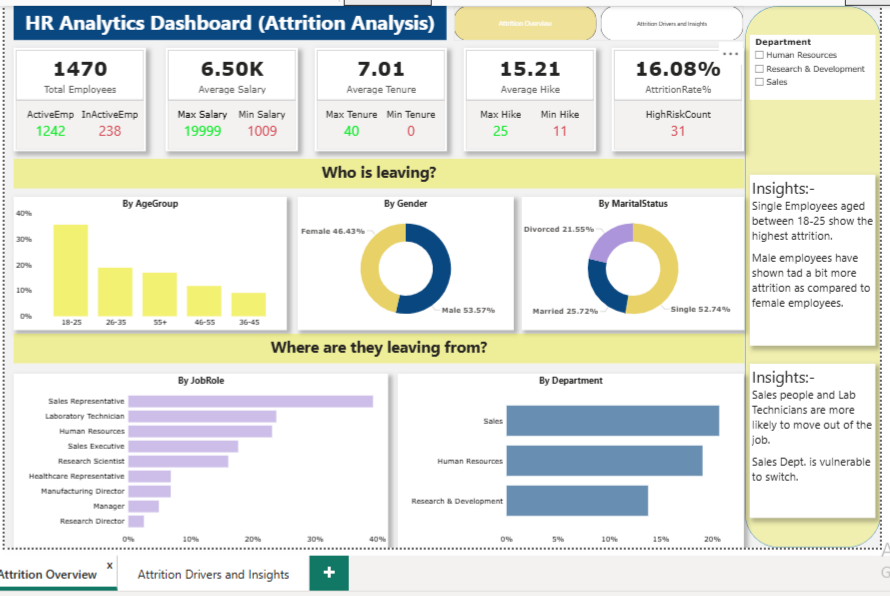

Layout of this report page (visuals, bound fields, positions):
{"tool":"powerbi","page":{"name":"Attrition Overview","canvas":[2100,1300],"ordinal":0},"visuals":[{"type":"cardVisual","fields":{"Data":["Count(HR_Analytics.EmpID)"]},"box":[21.1,100.4,317.1,248.4],"z":0},{"type":"cardVisual","fields":{"Data":["Avg(HR_Analytics.MonthlyIncome)"]},"box":[385.8,100.4,317.1,248.4],"z":1000},{"type":"cardVisual","fields":{"Data":["Avg(HR_Analytics.YearsAtCompany)"]},"box":[742.5,100.4,317.1,248.4],"z":2000},{"type":"cardVisual","fields":{"Data":["Avg(HR_Analytics.PercentSalaryHike)"]},"box":[1101.8,100.4,317.1,248.4],"z":3000},{"type":"cardVisual","fields":{"Data":["_Measure.AttritionRate%"]},"box":[1455.9,100.4,317.1,248.4],"z":4000},{"type":"textbox","box":[21.1,367.3,1751.8,71.3],"z":5000},{"type":"columnChart","title":"By AgeGroup","fields":{"Category":["HR_Analytics.AgeGroup"],"Y":["_Measure.AttritionRate%"]},"box":[21.1,457.1,655.3,319.7],"z":6000},{"type":"donutChart","title":"By Gender","fields":{"Category":["HR_Analytics.Gender"],"Y":["_Measure.AttritionRate%"]},"box":[702.8,457.1,517.9,319.7],"z":7000},{"type":"donutChart","title":"By MaritalStatus","fields":{"Y":["_Measure.AttritionRate%"],"Category":["HR_Analytics.MaritalStatus"]},"box":[1239.2,457.1,533.7,319.7],"z":8000},{"type":"textbox","box":[21.1,787.4,1751.8,71],"z":9000},{"type":"clusteredBarChart","title":"By JobRole","fields":{"Y":["_Measure.AttritionRate%"],"Category":["HR_Analytics.JobRole"]},"box":[21.1,882.5,898.4,417.5],"z":10000},{"type":"shape","box":[1774.9,0,326.2,1300],"z":11000},{"type":"clusteredBarChart","title":"By Department","fields":{"Y":["_Measure.AttritionRate%"],"Category":["HR_Analytics.Department"]},"box":[943.3,882.5,829.7,417.5],"z":12000},{"type":"textbox","box":[21.1,0,1038.4,81.9],"z":13000},{"type":"pageNavigator","box":[1078,0,694.9,84.6],"z":14000},{"type":"slicer","fields":{"Values":["HR_Analytics.Department"]},"box":[1786.2,68.7,301.2,155.9],"z":15000},{"type":"textbox","box":[1786.2,404.3,301.2,409.6],"z":16000},{"type":"textbox","box":[1786.2,858.7,301.2,369.9],"z":16001}]}

Visuals, with their boxes on the page's 2100x1300 design canvas (x1, y1, x2, y2). These are canvas units, not pixel positions in the 890x596 screenshot, which may show the page scaled, cropped or inside an application window:
cardVisual - Count(HR_Analytics.EmpID): box=[21, 100, 338, 349]
cardVisual - Avg(HR_Analytics.MonthlyIncome): box=[386, 100, 703, 349]
cardVisual - Avg(HR_Analytics.YearsAtCompany): box=[742, 100, 1060, 349]
cardVisual - Avg(HR_Analytics.PercentSalaryHike): box=[1102, 100, 1419, 349]
cardVisual - _Measure.AttritionRate%: box=[1456, 100, 1773, 349]
textbox: box=[21, 367, 1773, 439]
"By AgeGroup" columnChart: box=[21, 457, 676, 777]
"By Gender" donutChart: box=[703, 457, 1221, 777]
"By MaritalStatus" donutChart: box=[1239, 457, 1773, 777]
textbox: box=[21, 787, 1773, 858]
"By JobRole" clusteredBarChart: box=[21, 882, 920, 1300]
shape: box=[1775, 0, 2101, 1300]
"By Department" clusteredBarChart: box=[943, 882, 1773, 1300]
textbox: box=[21, 0, 1060, 82]
pageNavigator: box=[1078, 0, 1773, 85]
slicer - HR_Analytics.Department: box=[1786, 69, 2087, 225]
textbox: box=[1786, 404, 2087, 814]
textbox: box=[1786, 859, 2087, 1229]
